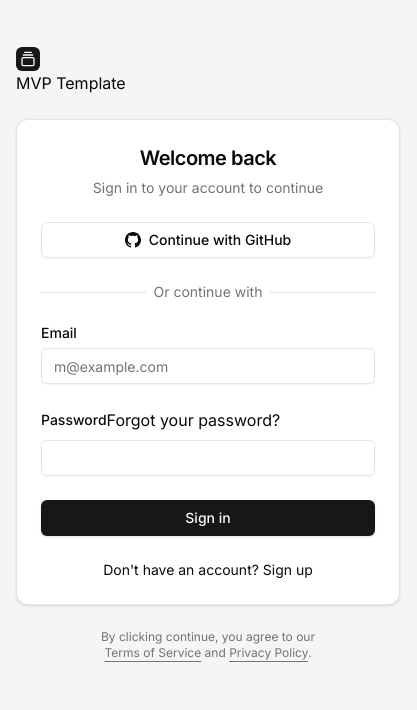
Test: SignInPage › handles network errors gracefully
The width and height of the screenshot is (417, 710).
Type "test@example.com" into the field labelled "Email".
click(208, 366); type("test@example.com")  # box [41, 348, 375, 384]
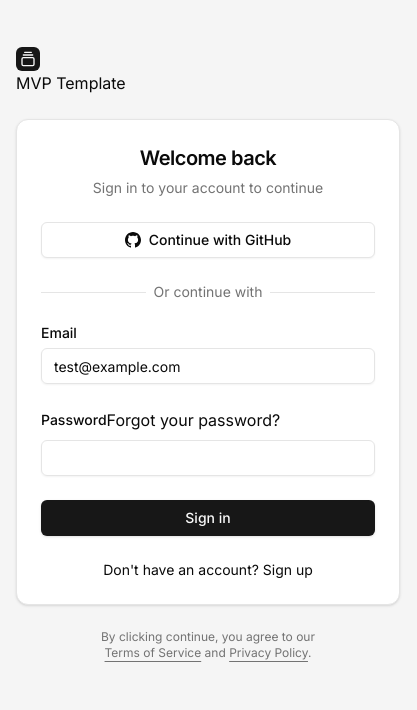
Type "password123" into the password field labelled "Password".
click(208, 458); type("password123")  # box [41, 440, 375, 476]
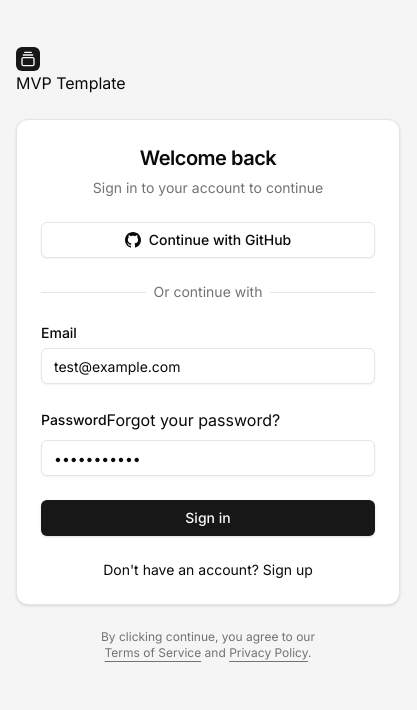
Click the button "Sign in".
click(208, 518)  # box [41, 500, 375, 536]
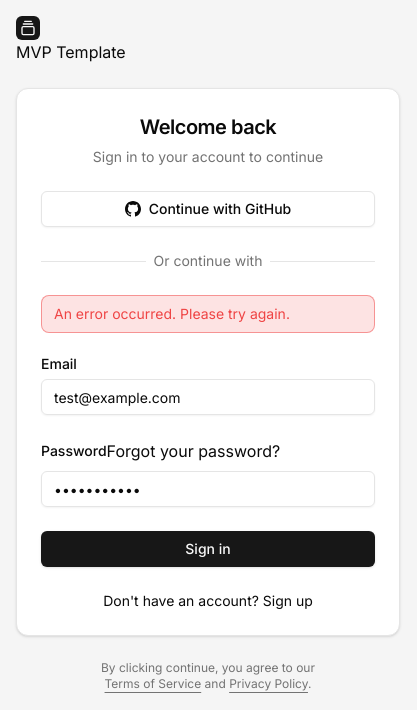
Expected: the text "An error occurred. Please try again." is shown, [41, 295, 375, 333]
